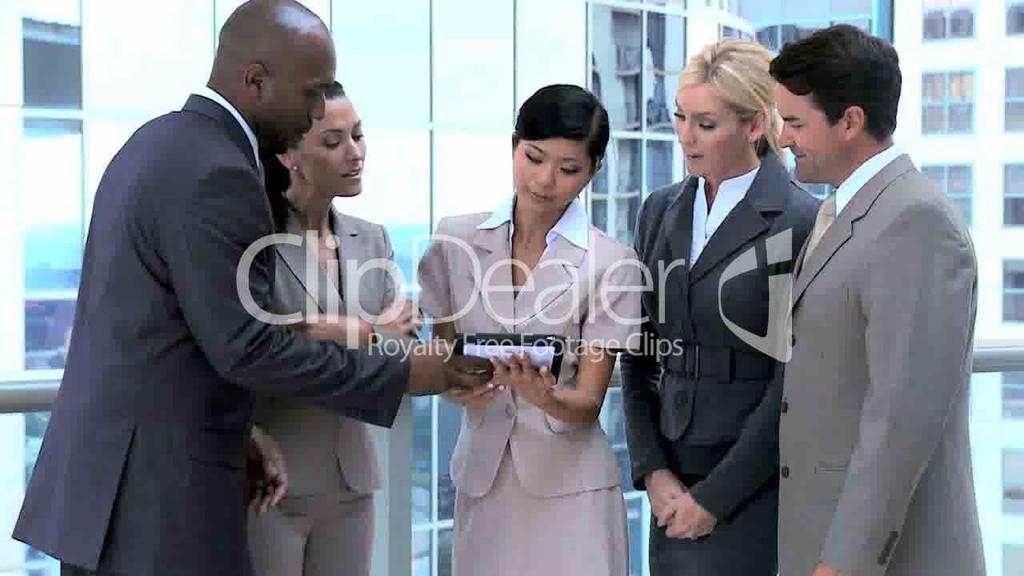face: (774, 80, 846, 182), (272, 32, 330, 158), (510, 124, 588, 212), (676, 84, 744, 176), (298, 100, 364, 194)
